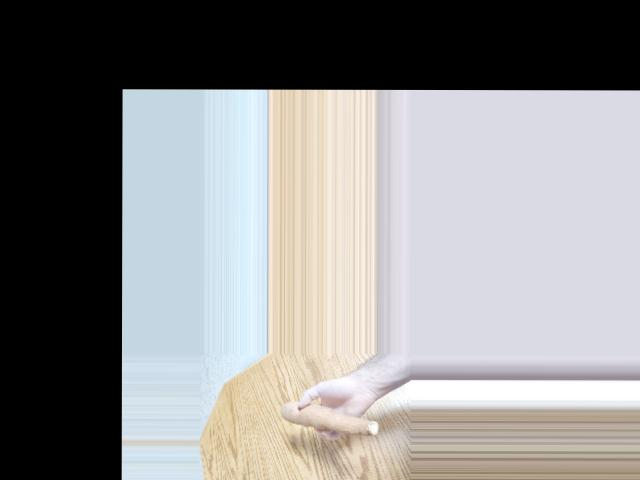sweet_potato: (275, 407, 382, 433)
